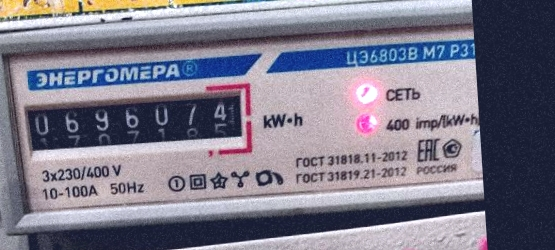0: (30, 110, 51, 135), (152, 100, 169, 126)
4: (210, 97, 227, 119)
5: (212, 121, 229, 137)
6: (123, 102, 141, 129), (62, 108, 81, 133)
7: (182, 99, 200, 125)
9: (92, 105, 110, 132)
screen: (13, 78, 257, 162)
